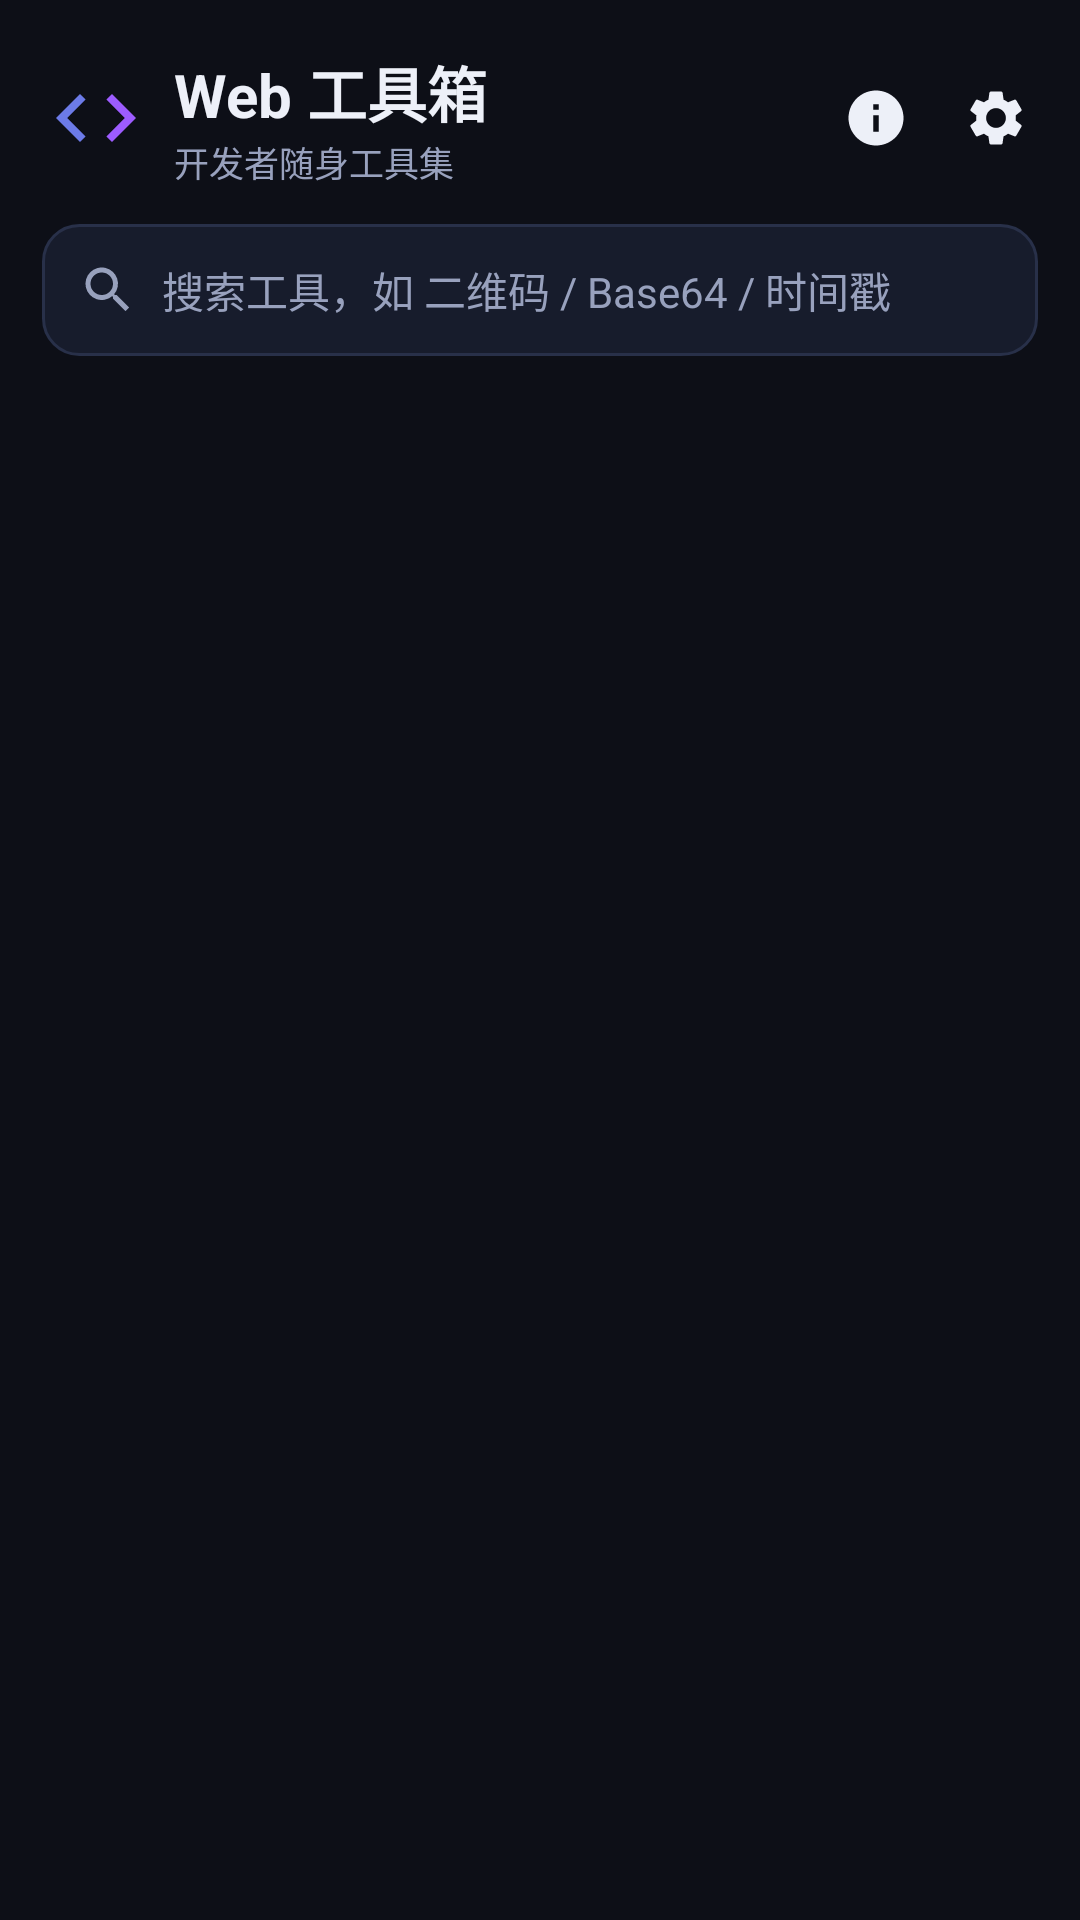

Named icons in this screenshot (1080px x 1920px) and their centers, (x=x, y=y):
search: (x=107, y=289)
关于: (x=876, y=118)
设置: (x=996, y=118)
